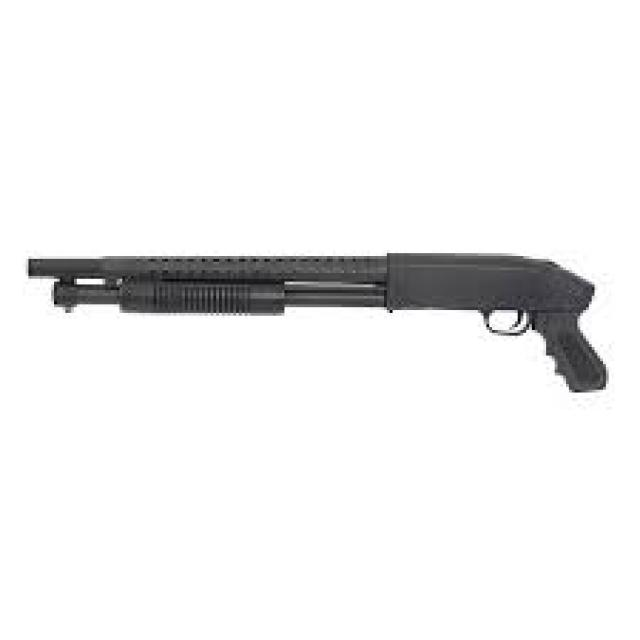long weapon: (13, 217, 624, 402)
